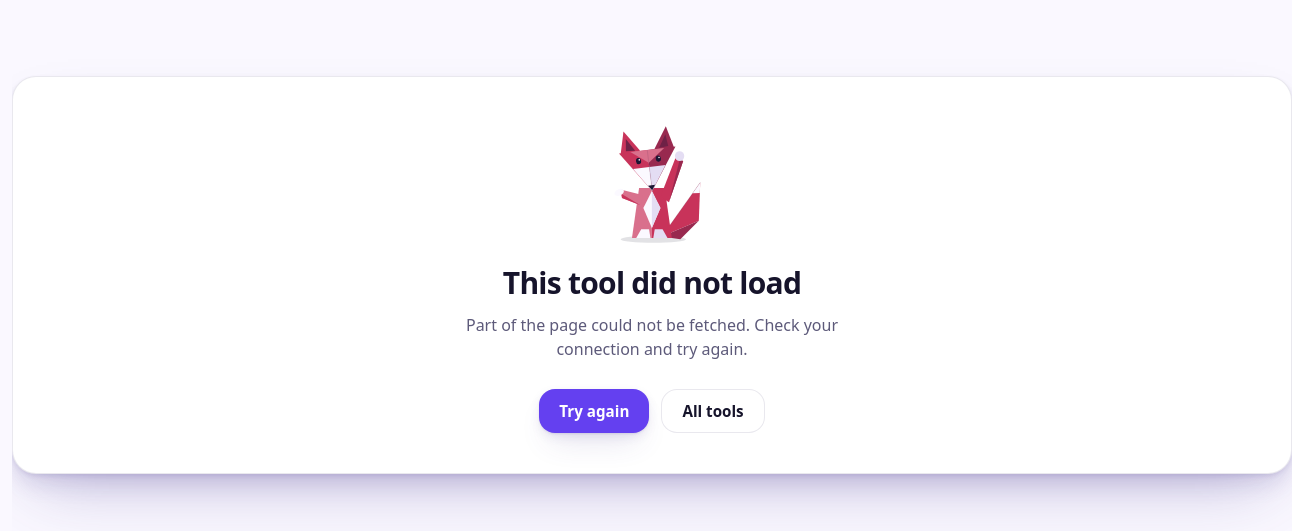
Scenario: PanelBoundary › offers a retry when a tool fails to load, and the retry works
The image size is (1292, 531).
Expected: the message shows "This tool did not load", [503,262,801,303]
Step 1. Click the button "Try again" → (594, 411), box [539,389,649,433]
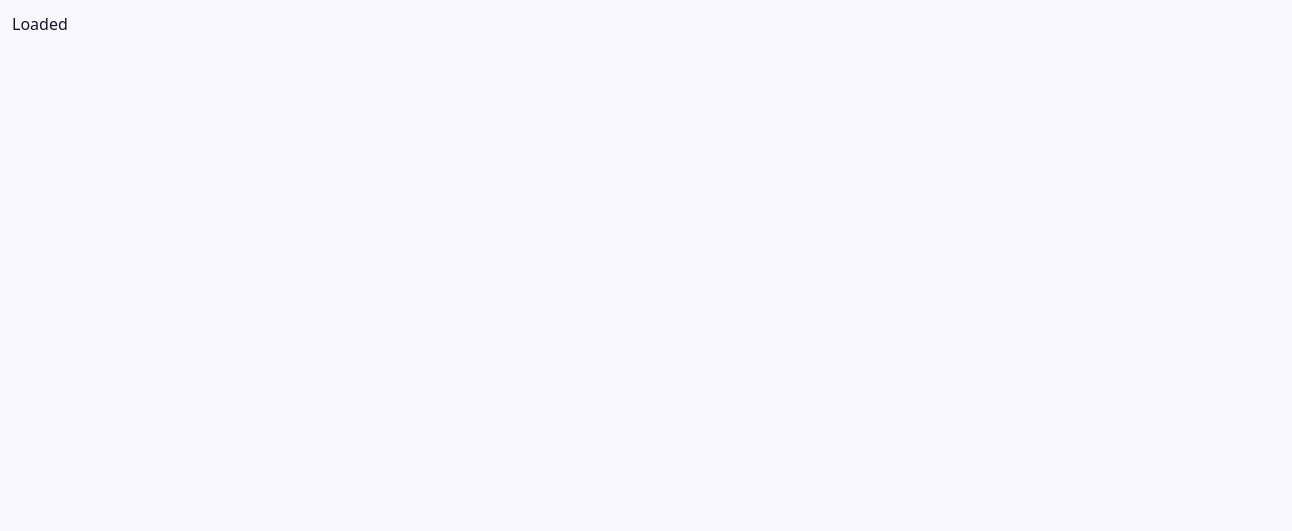
Expected: the text "Loaded" is shown, [12,13,68,35]
